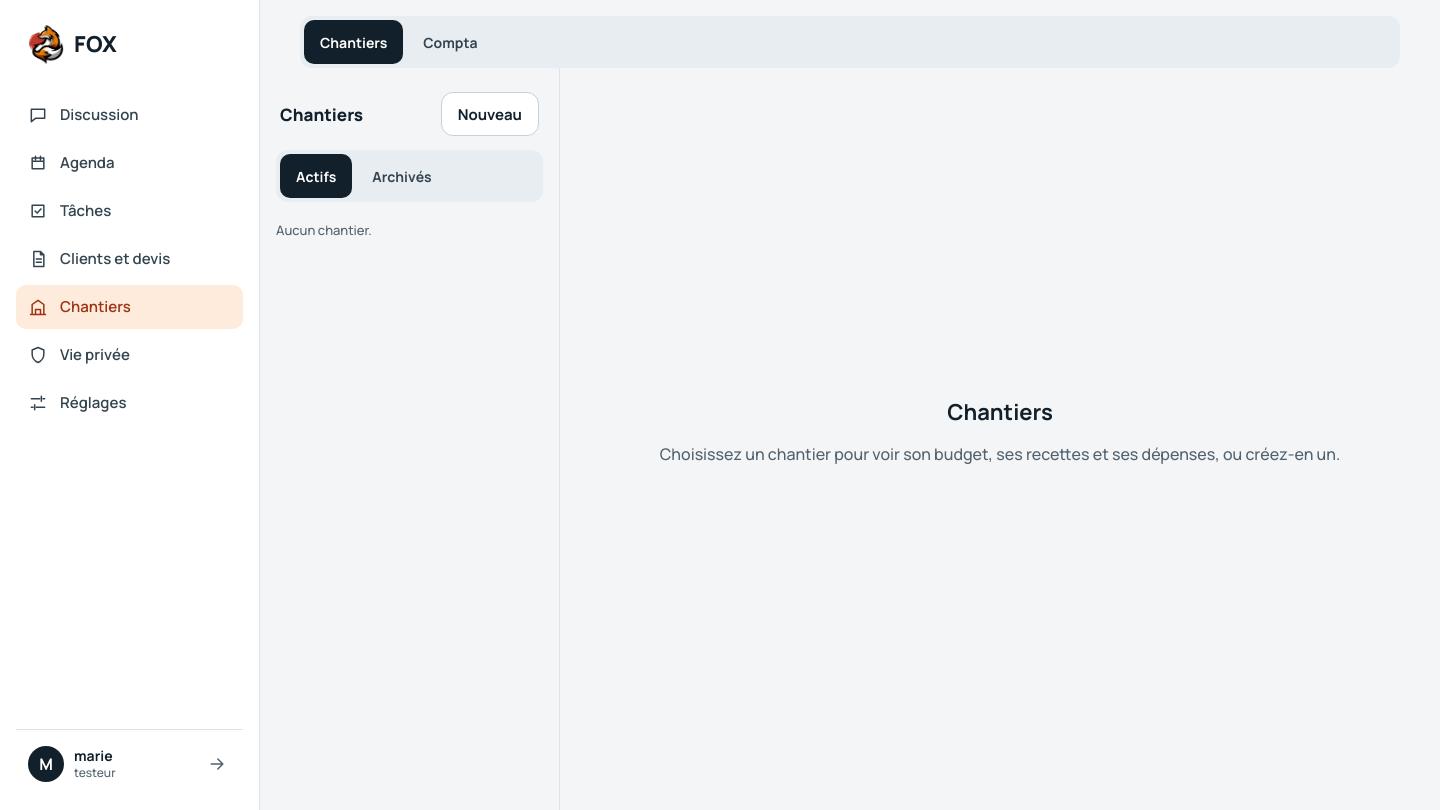
Test: Chantiers › crée un chantier
Step 1. Click the button "Nouveau" → point(490, 114), box [441,92,539,136]
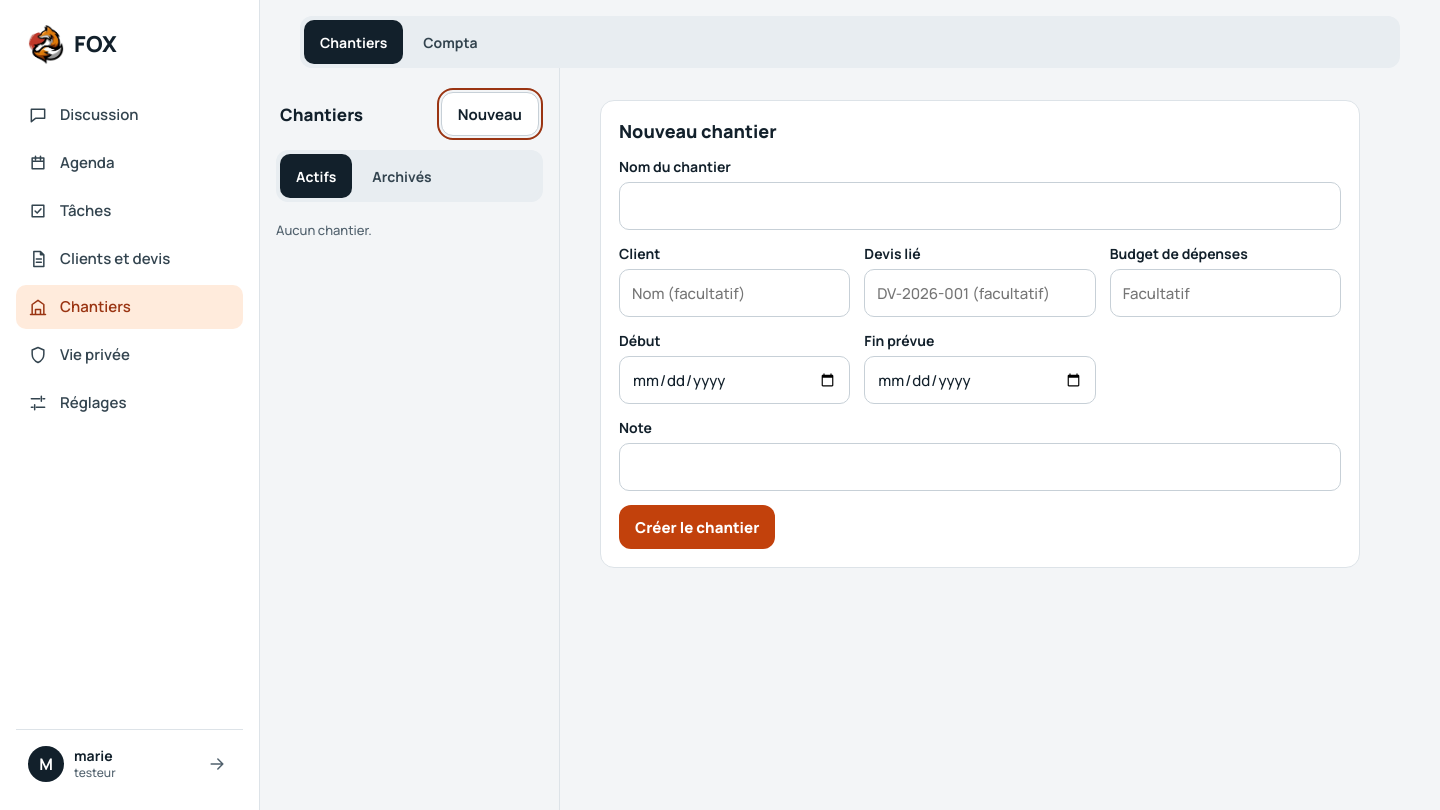
Step 2. Type "Villa Nkolo" into the field labelled "Nom du chantier" → point(980, 206), box [619,182,1341,230]
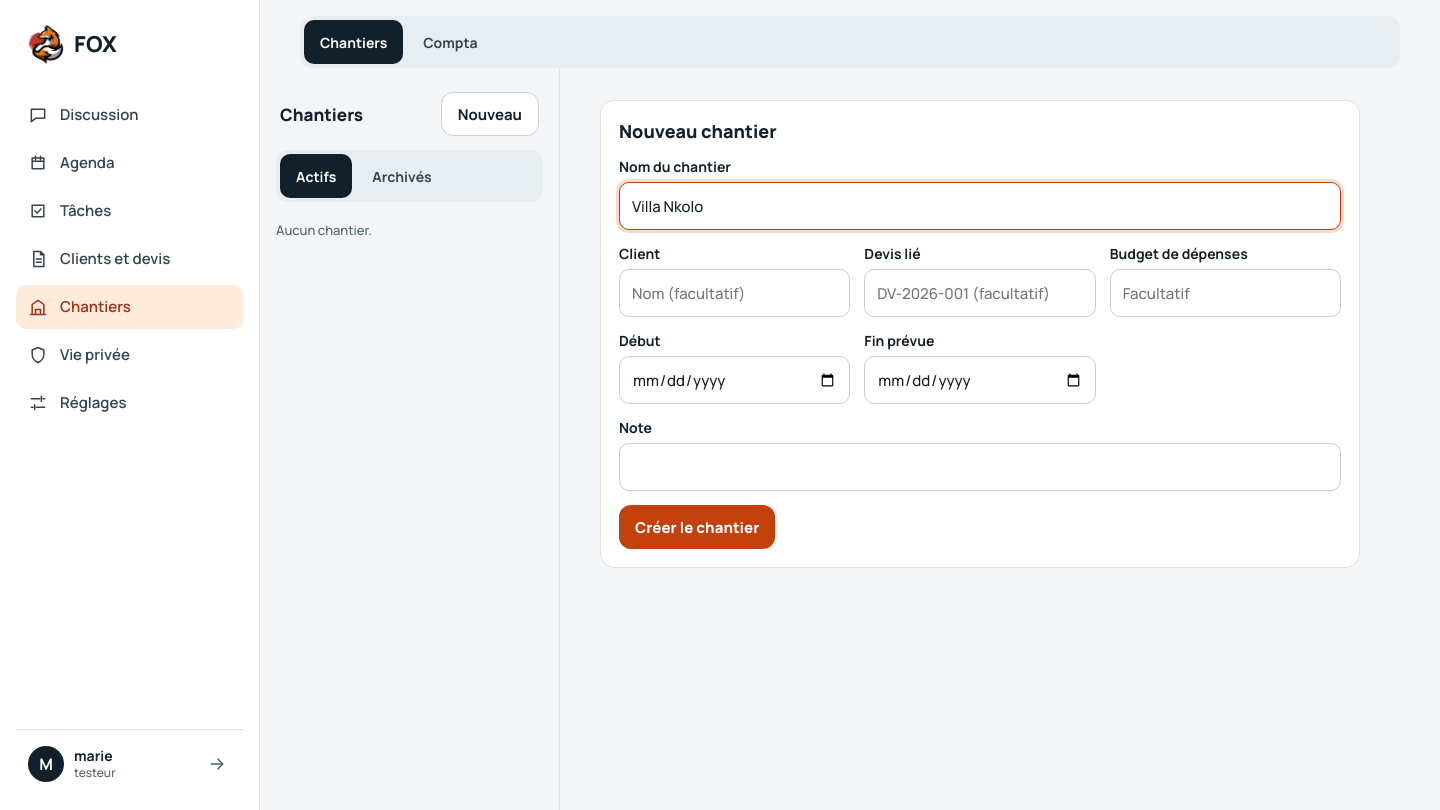
Step 3. Type "100000" into the field labelled "Budget de dépenses" → point(1225, 293), box [1110,269,1341,317]
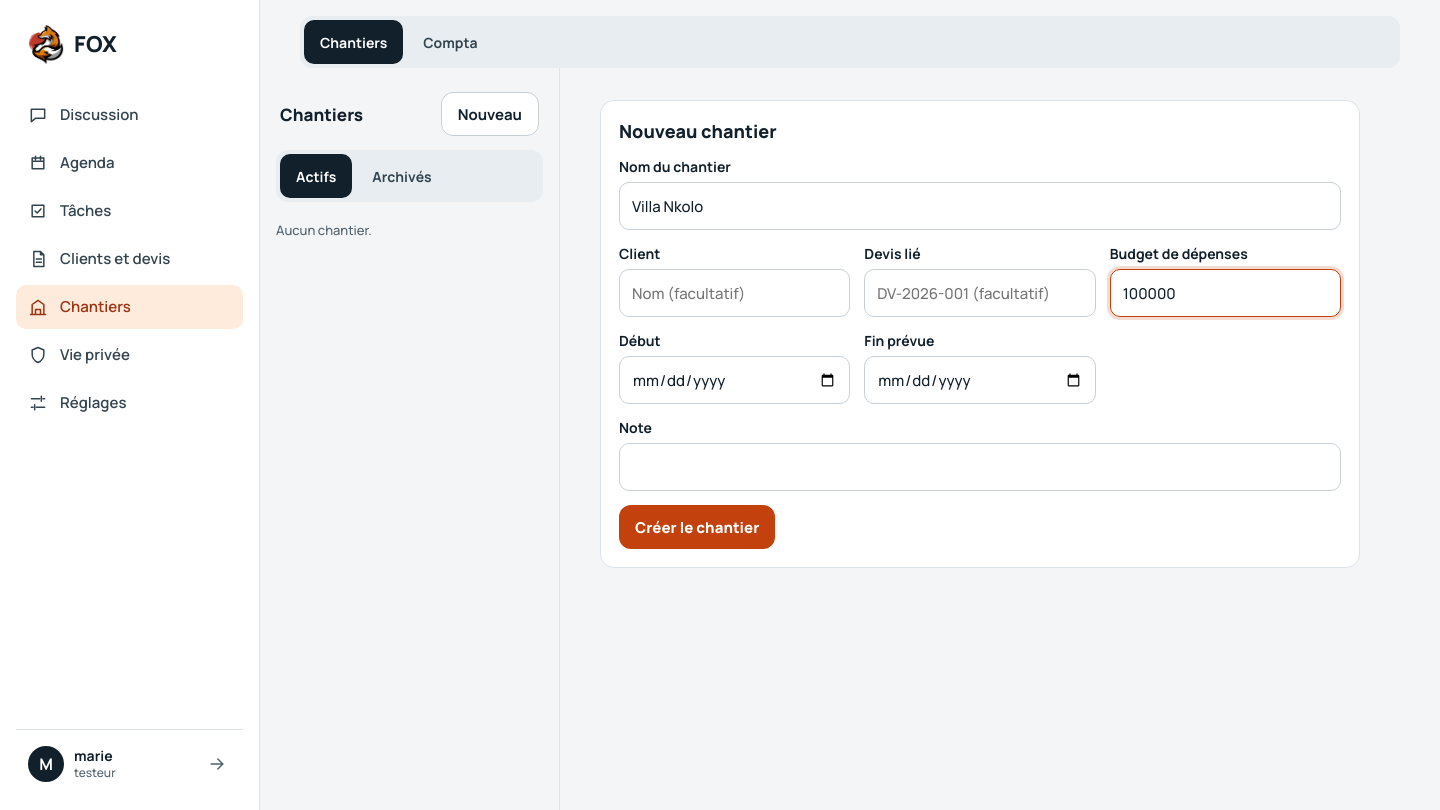
Step 4. Click the button "Créer le chantier" → point(697, 527), box [619,505,775,549]
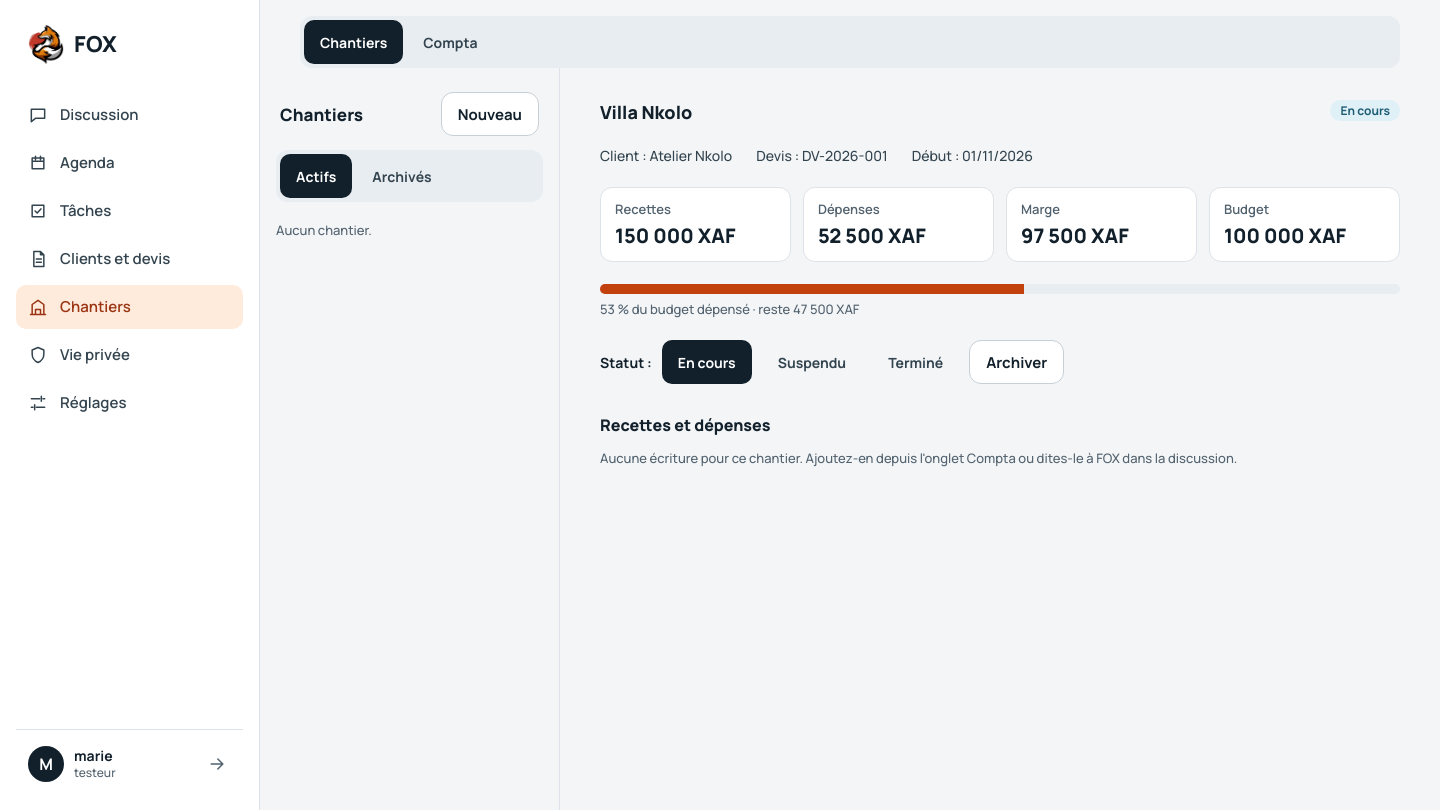
Check: the element named "Chiffres du chantier" is shown, box [600,187,1400,262]
